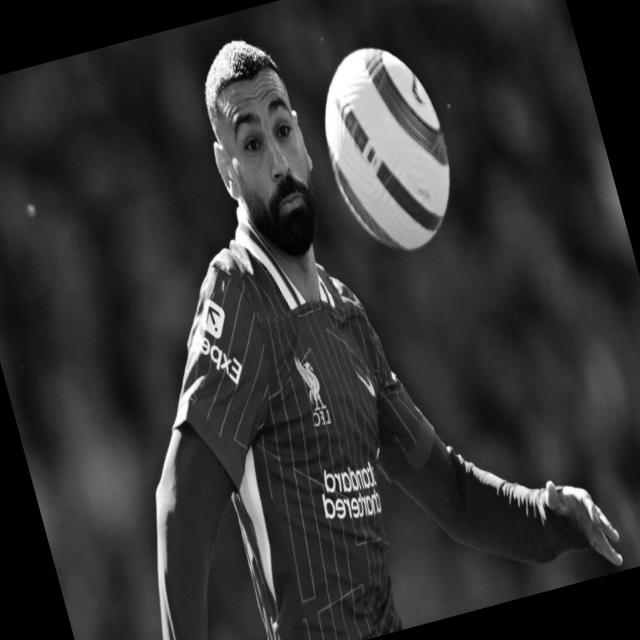football: (324, 47, 451, 254)
